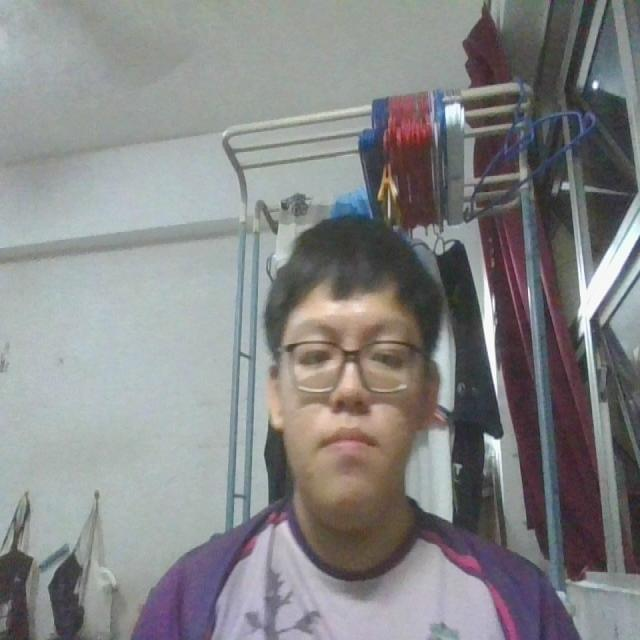person_without_labcoat: (132, 217, 579, 639)
